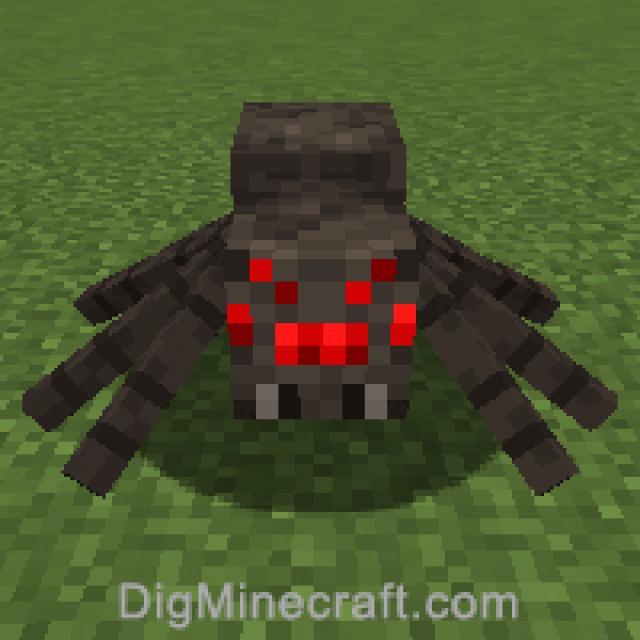Spider: (22, 100, 618, 502)
